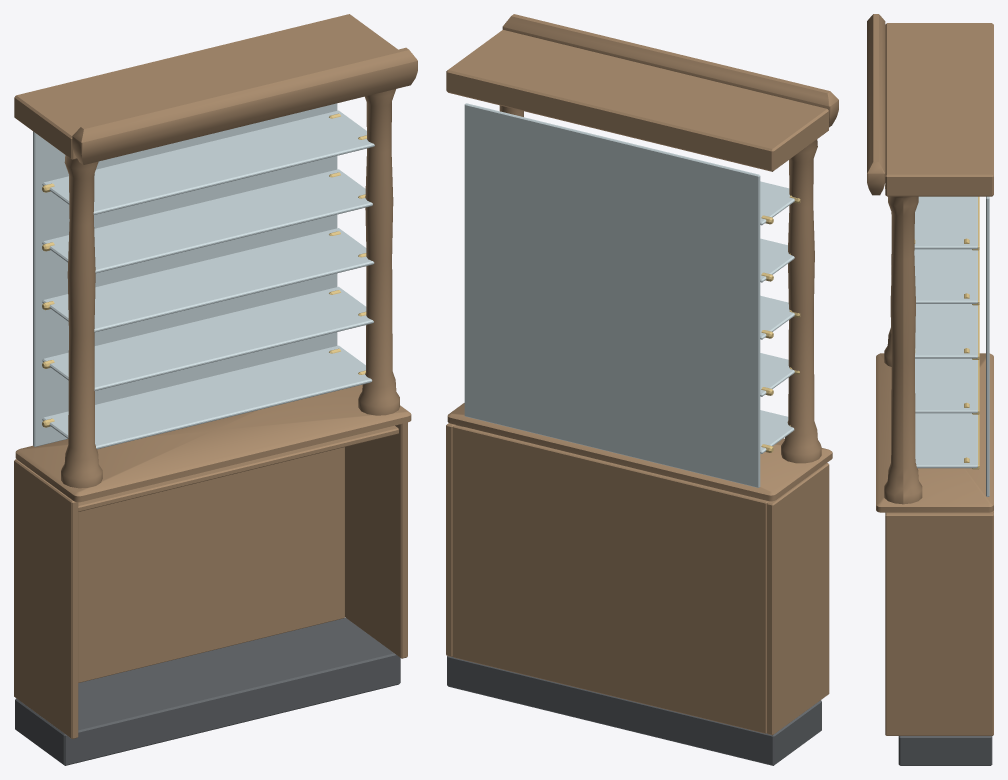
Rendered from back_bar_glass.glb.
3 views of the same model, side by side, from view 1: azimuth 30°, elevation 25°; view 2: azimuth 150°, elevation 25°; view 3: azimuth 270°, elevation 25° (orthographic). The views are drawn at different scales.
Visible parts, largest first — view 1: back-bar-glass-shelf-run; view 2: back-bar-glass-shelf-run; view 3: back-bar-glass-shelf-run.
Part boxes in pixels (bbox=[...]): back-bar-glass-shelf-run: bbox=[14, 14, 417, 765]; back-bar-glass-shelf-run: bbox=[446, 14, 838, 765]; back-bar-glass-shelf-run: bbox=[867, 14, 993, 765].
Size of the model in its own units: 1.2 by 2.2 by 0.42.
